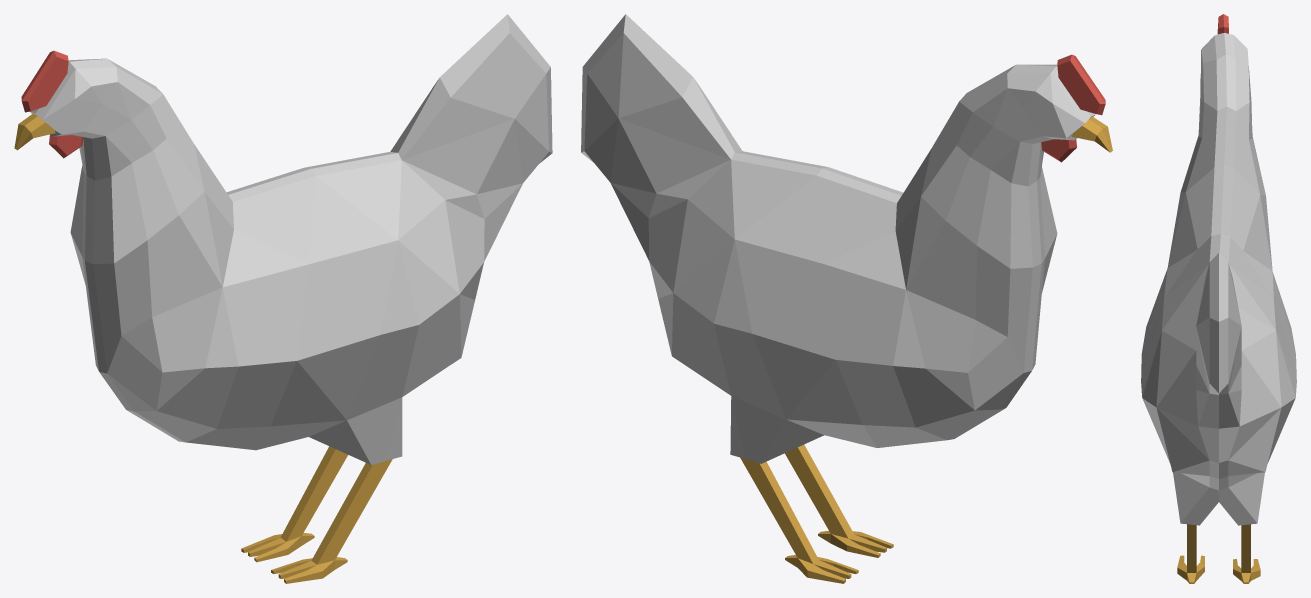
The model's file is hen_6.fbx.
3 views of the same model, side by side, from view 1: azimuth 30°, elevation 25°; view 2: azimuth 150°, elevation 25°; view 3: azimuth 270°, elevation 25° (orthographic). The views are drawn at different scales.
Parts seen in each view (by area): view 1: Body, Feet, Top, Beak; view 2: Body, Feet, Top, Beak; view 3: Body, Feet.
Boxes of the visible parts, x1,y1,x2,y2 form: Body: (30, 14, 552, 464); Feet: (241, 446, 392, 583); Top: (21, 50, 68, 112); Beak: (14, 113, 55, 150); Body: (581, 14, 1095, 463); Feet: (740, 444, 893, 583); Top: (1057, 54, 1105, 115); Beak: (1072, 116, 1112, 152); Body: (1141, 33, 1296, 525); Feet: (1177, 524, 1260, 583).
Size of the model in its own units: 0.7017 by 2.31 by 2.28.
